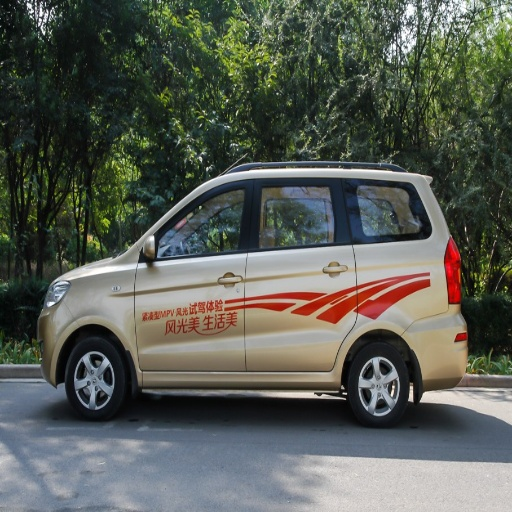back_left_door: (247, 177, 354, 370)
front_left_door: (135, 177, 254, 372)
